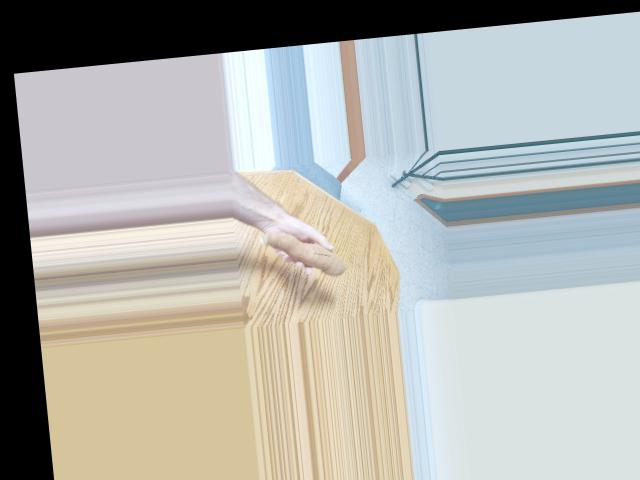sweet_potato: (256, 218, 349, 283)
